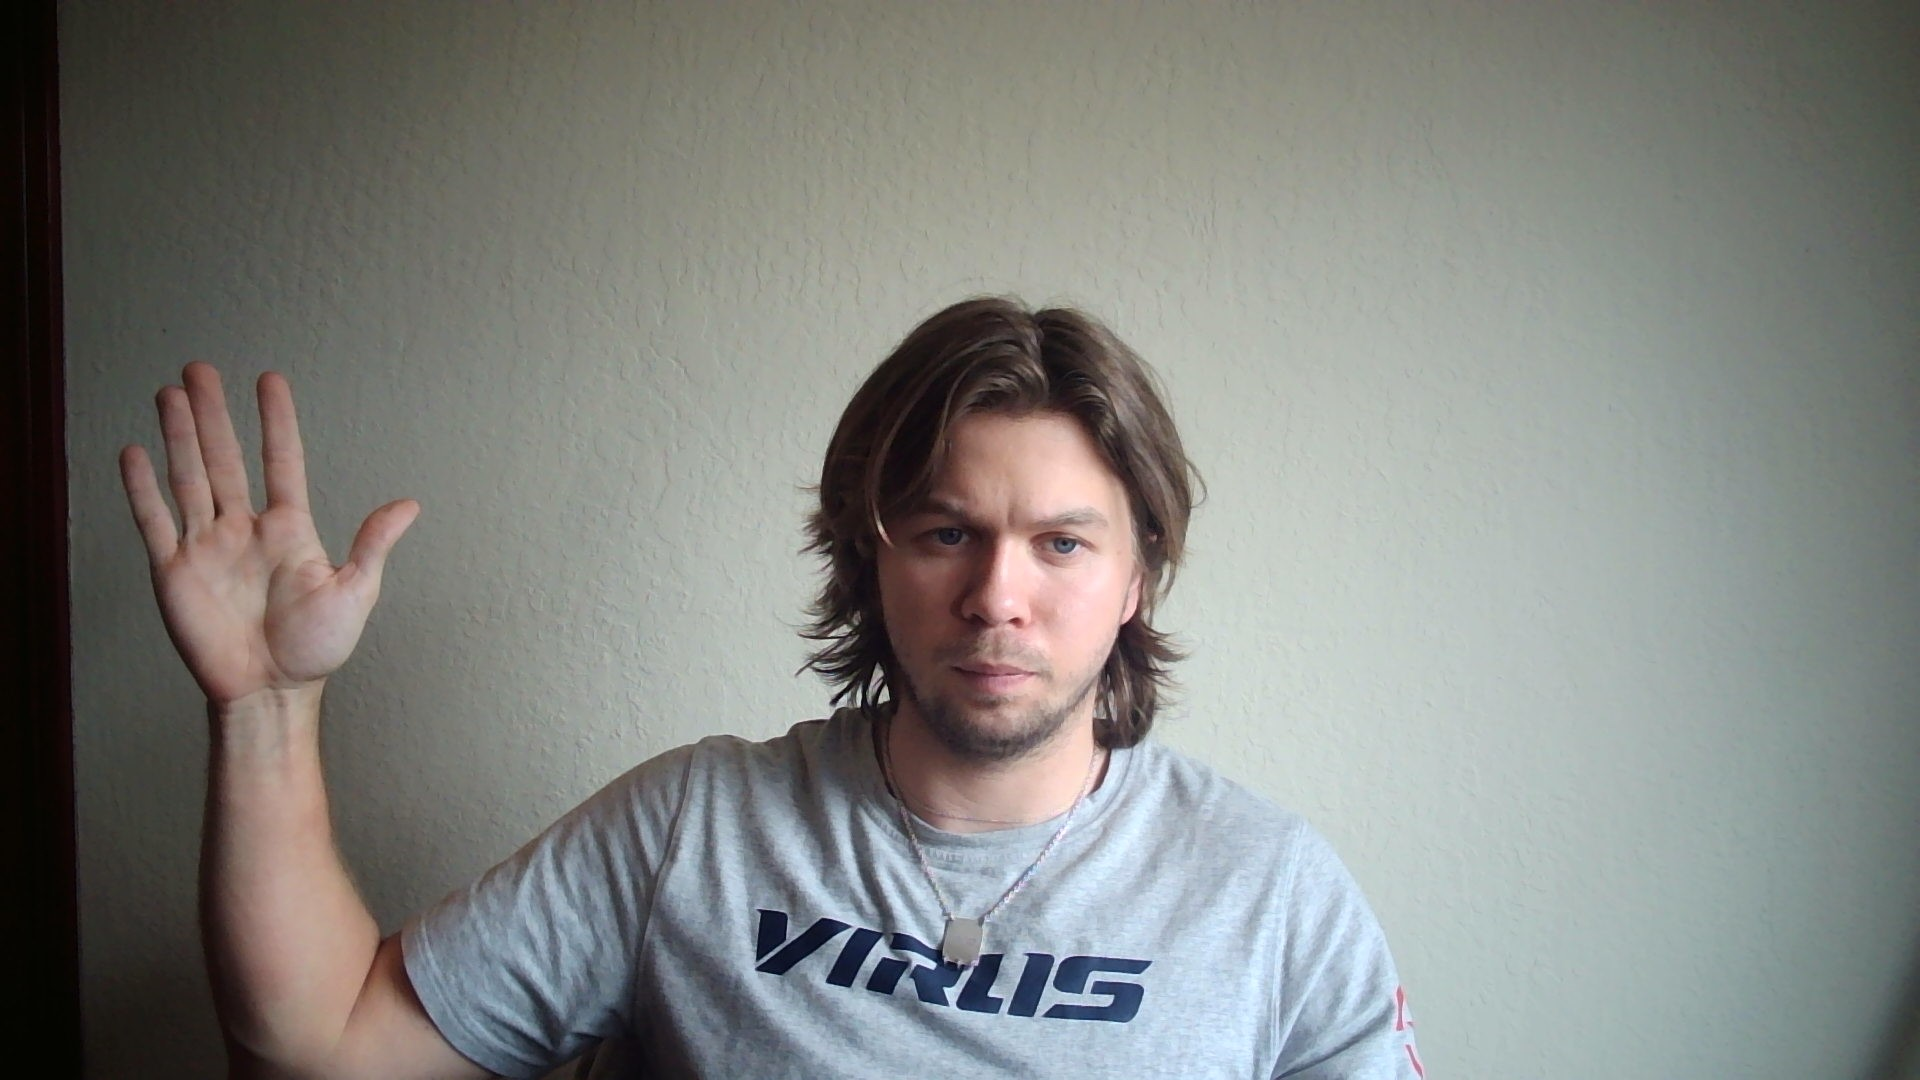hello: (117, 363, 421, 702)
